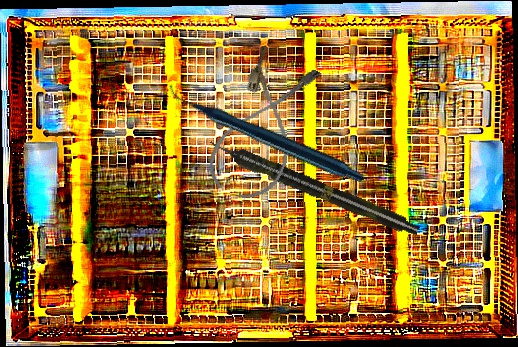Cannula: (200, 45, 326, 209)
Handpiece: (165, 21, 368, 243), (206, 133, 422, 241)
